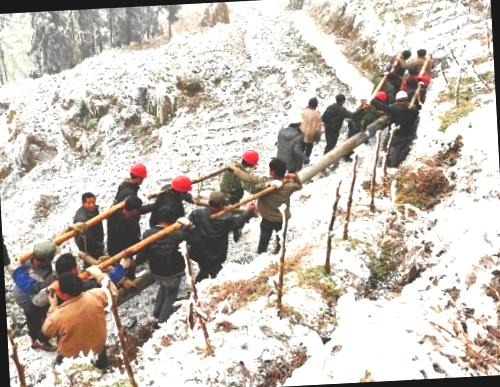no_helmet: (50, 248, 85, 278), (27, 234, 58, 267), (50, 274, 88, 300), (205, 186, 234, 215), (264, 156, 294, 182), (154, 203, 183, 228), (118, 194, 144, 218), (76, 189, 102, 211), (302, 92, 320, 109), (332, 92, 348, 106)
